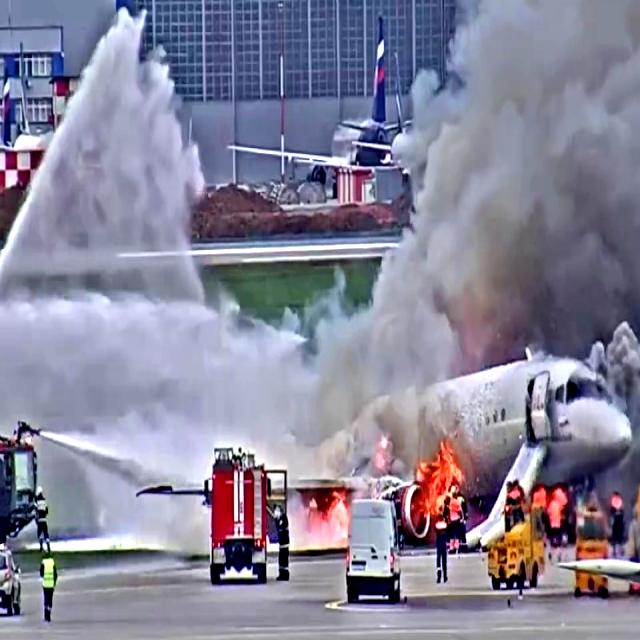smoke: (448, 0, 640, 332)
